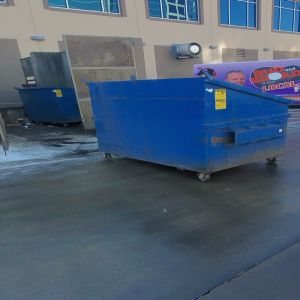Dumpster: (89, 82, 293, 181)
Person: (225, 69, 247, 86)
